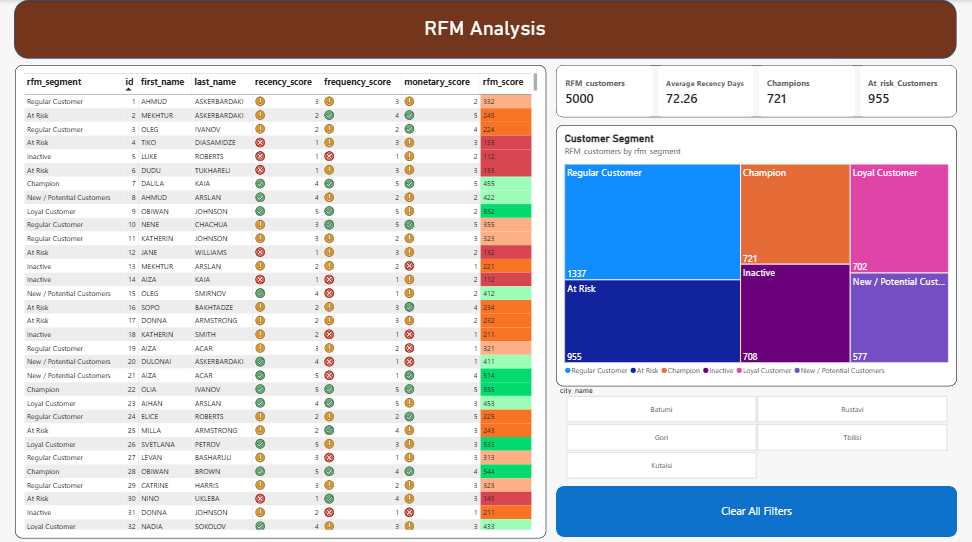

The page's visual inventory and layout, read from the dashboard file:
{"tool":"powerbi","page":{"name":"RFM","canvas":[1920,1080],"ordinal":1},"visuals":[{"type":"cardVisual","fields":{"Data":["Measures_Table.RFM_customers","Measures_Table.Average Recency","Measures_Table.Champions","Measures_Table.At_risk_Customers"]},"box":[1098.6,128.3,790.3,103.4],"z":0},{"type":"treemap","title":"Customer Segment","fields":{"Group":["Customer_RFM.rfm_segment"],"Values":["Measures_Table.RFM_customers"]},"box":[1098.6,246.2,790.3,515.2],"z":1000},{"type":"tableEx","fields":{"Values":["Customer_RFM.rfm_segment","Customers.id","Customers.first_name","Customers.last_name","Customer_RFM.recency_score","Customer_RFM.frequency_score","Customer_RFM.monetary_score","Customer_RFM.rfm_score"]},"box":[31,128.3,1046.9,933.1],"z":2000},{"type":"shape","box":[30,0,1857.8,115.8],"z":3000},{"type":"textbox","title":"RFM Analysis","box":[82.8,31,1750.3,51.7],"z":4000},{"type":"slicer","title":"Customer Segment","fields":{"Values":["Customers.city_name"]},"box":[1098.6,761.4,790.3,184.1],"z":5000},{"type":"actionButton","box":[1097.5,957.5,790.6,100.7],"z":6000}]}

Visuals, with their boxes in screenshot pixels (x1, y1, x2, y2), scaled from the page's 1920x1080 canvas onto the 972x542 screenshot:
cardVisual - Measures_Table.RFM_customers x Measures_Table.Average Recency: {"left": 556, "top": 64, "right": 956, "bottom": 116}
"Customer Segment" treemap: {"left": 556, "top": 124, "right": 956, "bottom": 382}
tableEx - Customer_RFM.rfm_segment x Customers.id: {"left": 16, "top": 64, "right": 546, "bottom": 533}
shape: {"left": 15, "top": 0, "right": 956, "bottom": 58}
"RFM Analysis" textbox: {"left": 42, "top": 16, "right": 928, "bottom": 42}
"Customer Segment" slicer: {"left": 556, "top": 382, "right": 956, "bottom": 475}
actionButton: {"left": 556, "top": 481, "right": 956, "bottom": 531}
